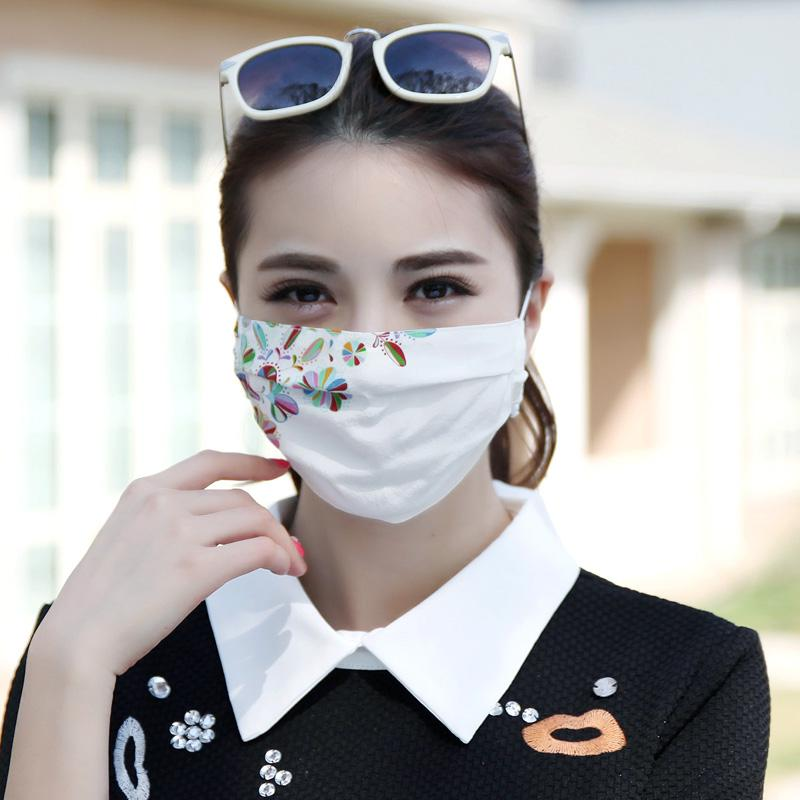OK: (239, 188, 524, 530)
